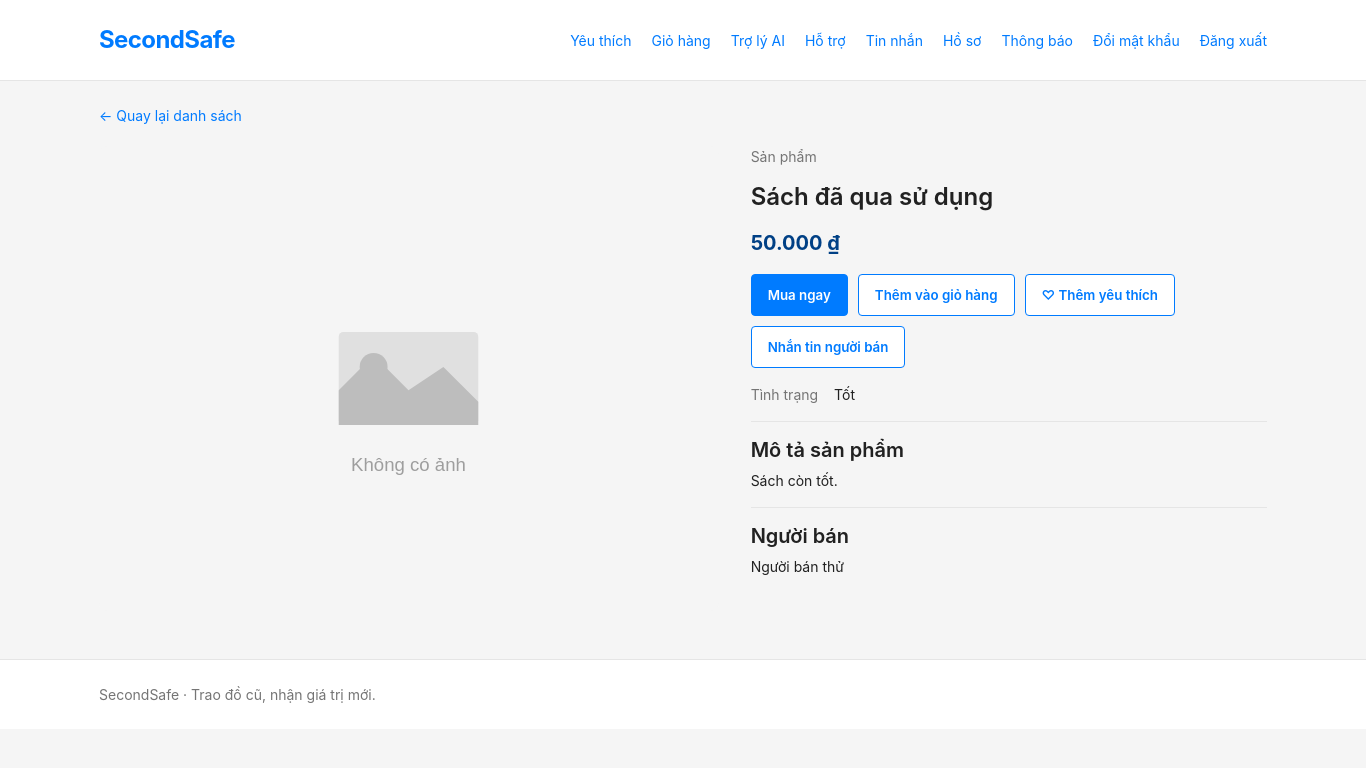
it: authenticated buyers can add a product to the persistent cart and favorites
Expected: the heading "Sách đã qua sử dụng" is shown, [751, 182, 993, 211]
Click the button "Thêm vào giỏ hàng" at (936, 295), box [858, 274, 1015, 316]
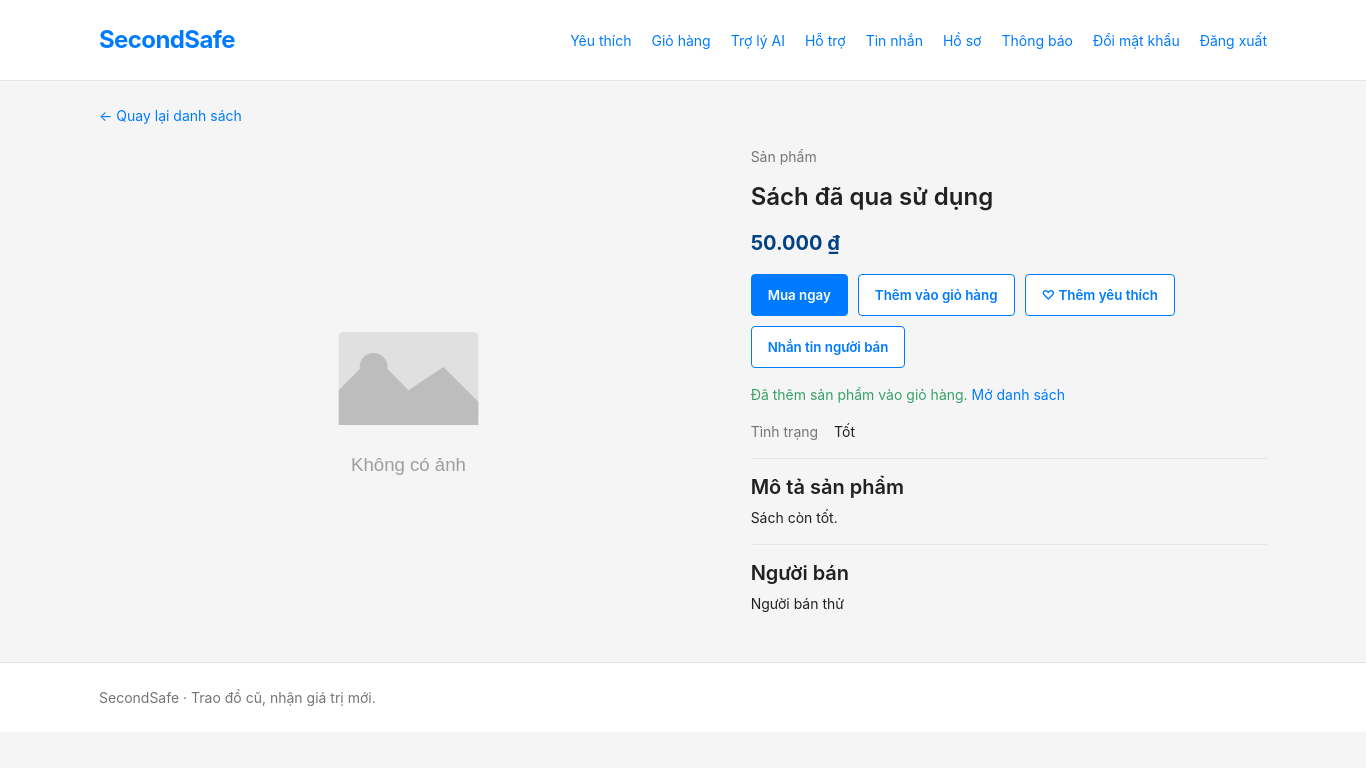
Result: the text "Đã thêm sản phẩm vào giỏ hàng. Mở danh sách" is shown at [751, 386, 1065, 403]
Click the button "♡ Thêm yêu thích" at (1100, 295), box [1024, 274, 1175, 316]
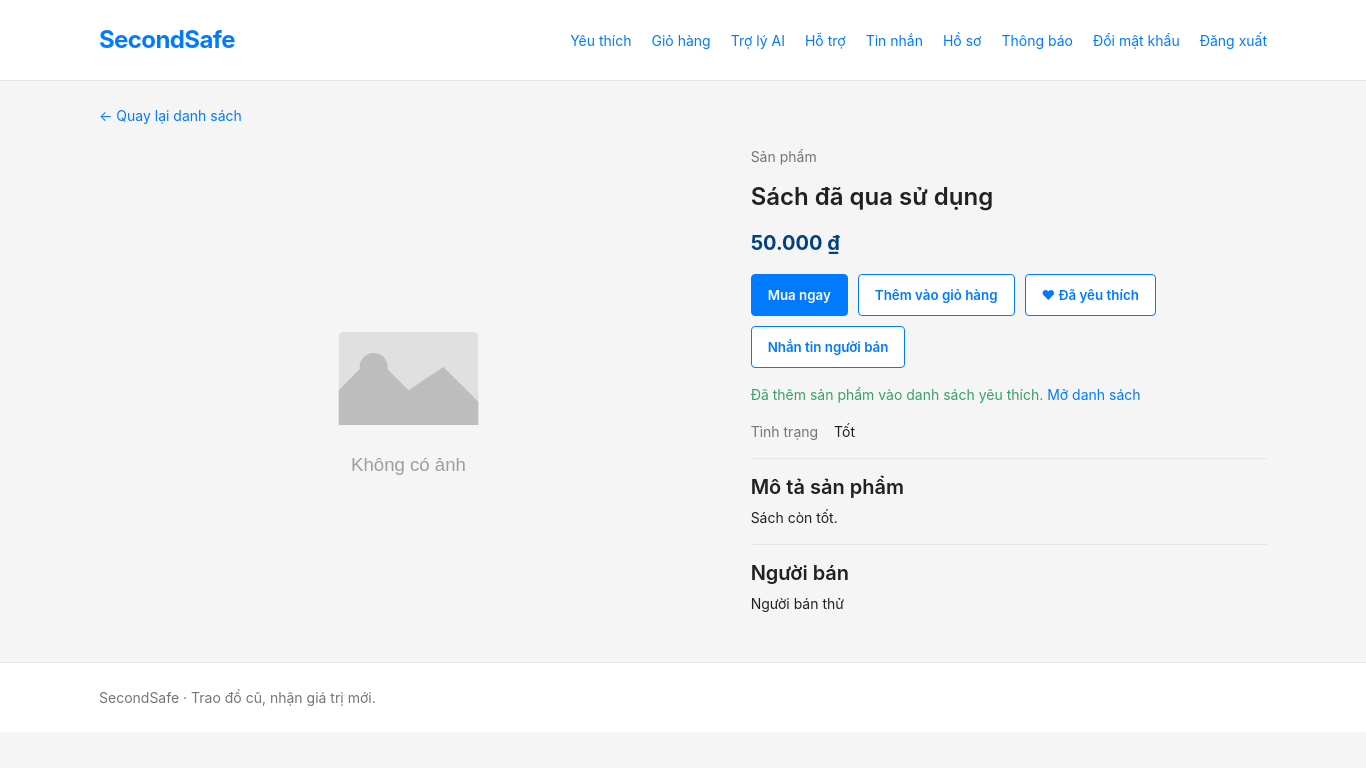
Result: the button "♥ Đã yêu thích" is shown at [1024, 274, 1156, 316]
